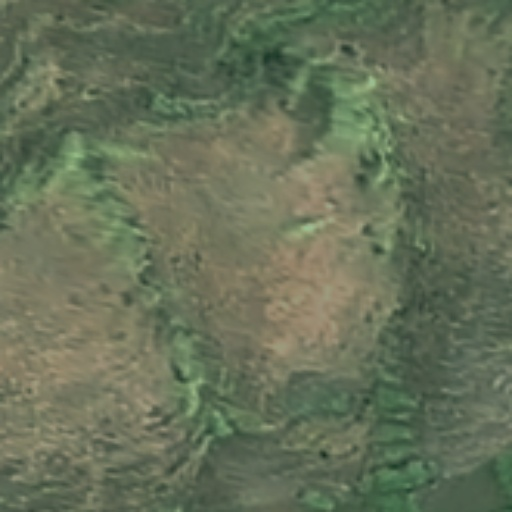landslide: (113, 101, 399, 359)
